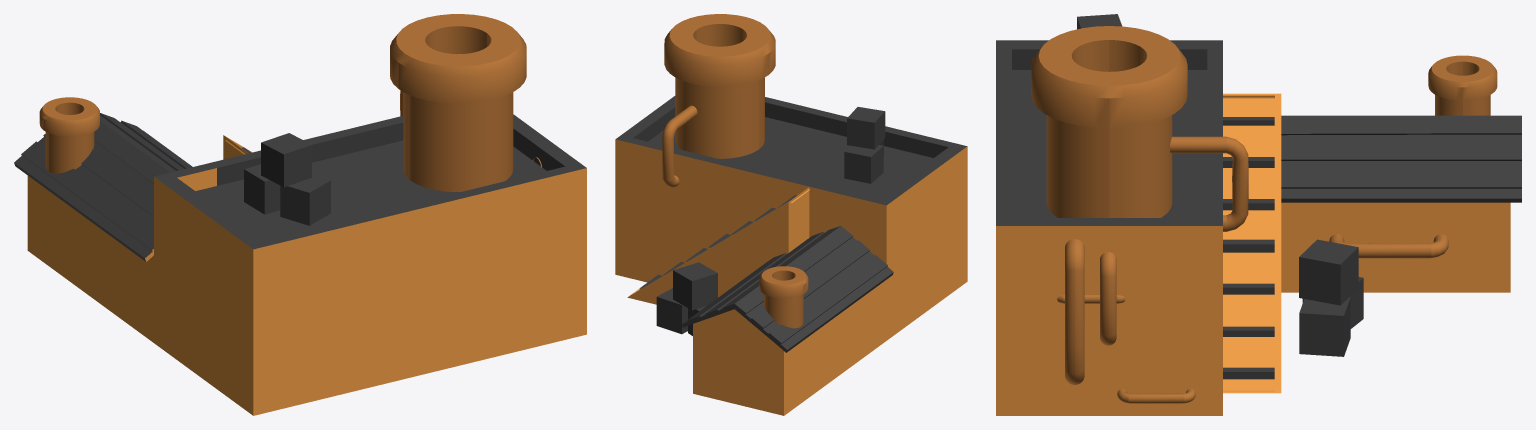
The model's file is SteampunkBarracks.fbx.
The picture shows the model from 3 angles, left to right: view 1: azimuth 30°, elevation 25°; view 2: azimuth 150°, elevation 25°; view 3: azimuth 270°, elevation 25°; orthographic projection. The views are drawn at different scales.
Visible parts, largest first — view 1: Cube; view 2: Cube; view 3: Cube.
Boxes of the visible parts, left/top/right/bottom form: Cube: left=14, top=14, right=586, bottom=415; Cube: left=615, top=14, right=967, bottom=415; Cube: left=996, top=14, right=1521, bottom=415.
Size of the model in its own units: 650 by 713 by 475.
